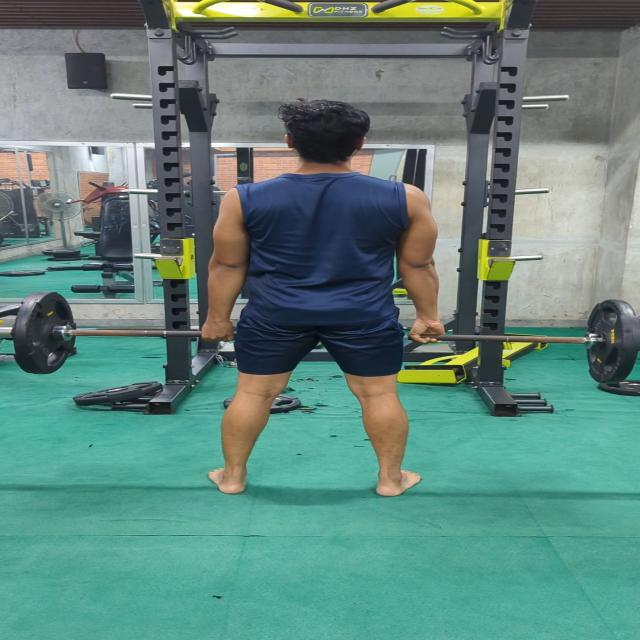Normal_Deadlifts: (177, 100, 471, 500)
